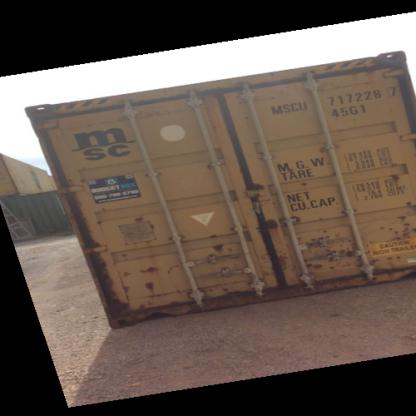Damage: (300, 229, 354, 278), (82, 235, 119, 298), (377, 214, 413, 247), (264, 250, 288, 276), (218, 279, 249, 299), (206, 229, 228, 254), (134, 210, 156, 231), (258, 214, 281, 234), (92, 202, 110, 227), (118, 270, 135, 296), (134, 259, 160, 273), (202, 157, 221, 176), (143, 277, 163, 295), (172, 282, 192, 299), (165, 257, 184, 274), (294, 175, 314, 188), (398, 196, 415, 209), (390, 165, 402, 183)
